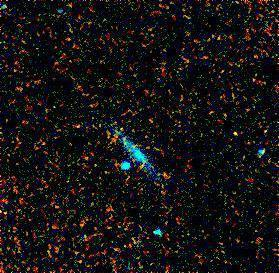star: (222, 119, 252, 149)
